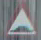Speed Breaker ahead: (3, 4, 37, 35)
